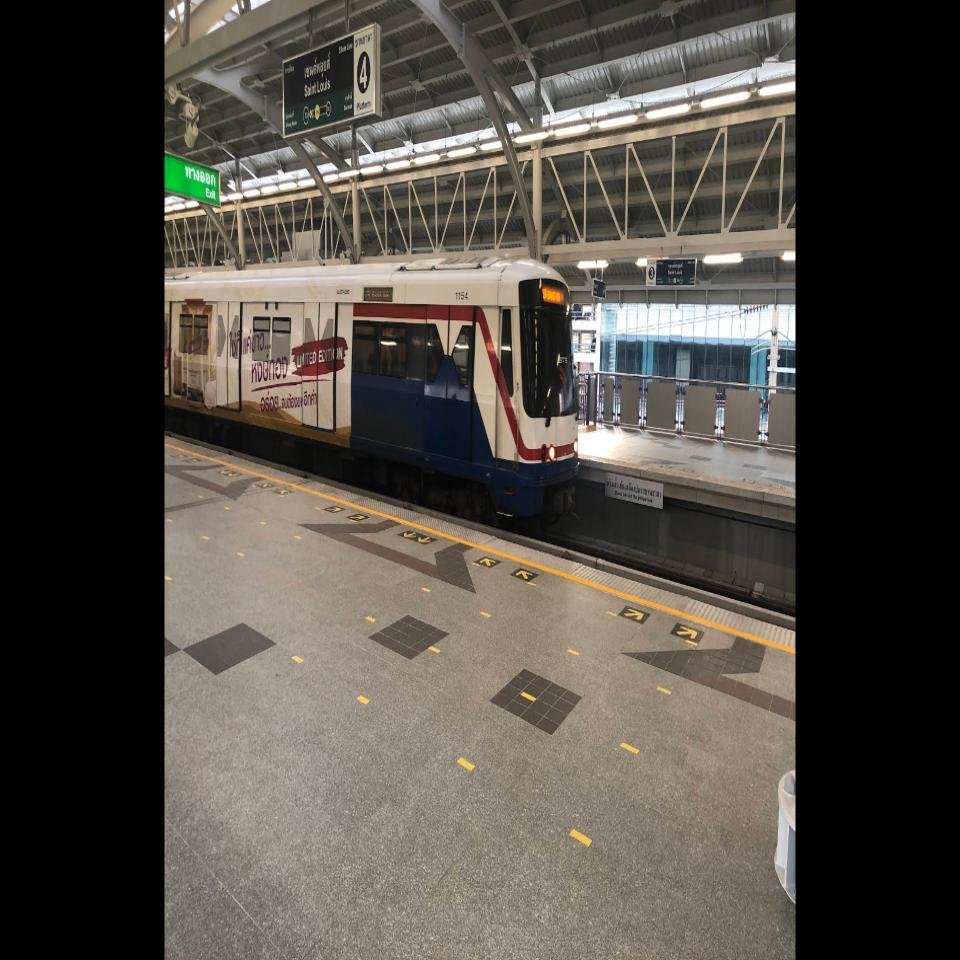Saint Louis: (303, 41, 331, 133), (667, 258, 683, 287)
